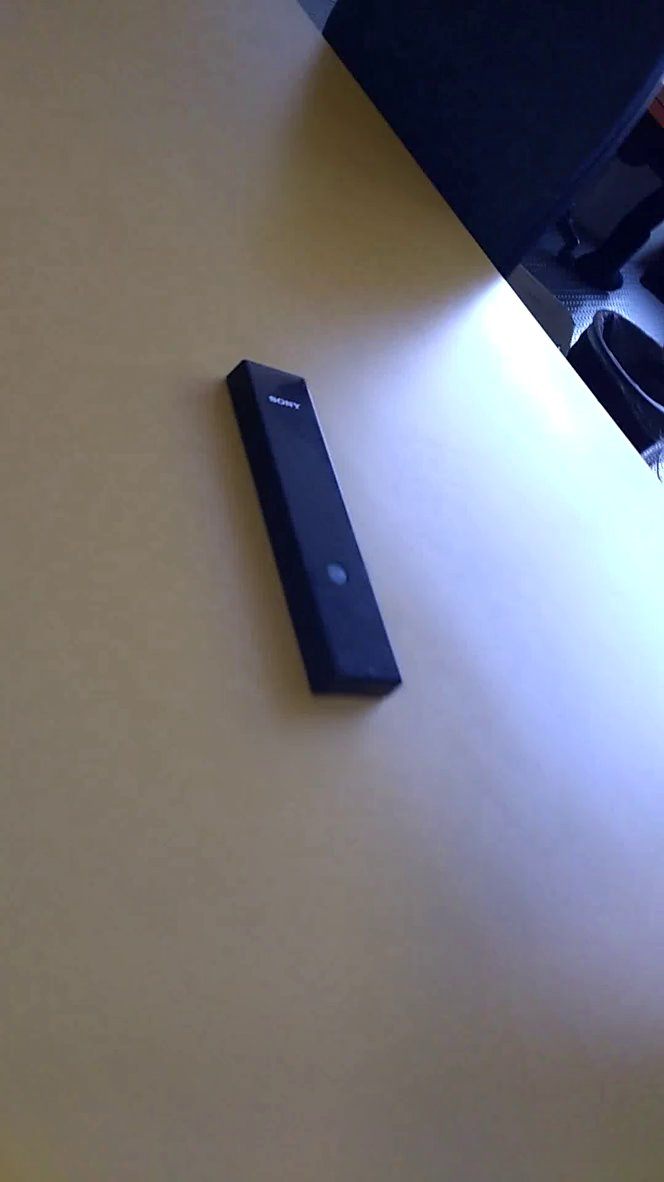remote: (205, 346, 409, 713)
